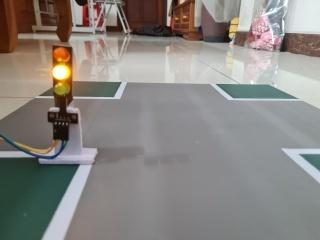yellow: (40, 35, 87, 111)
